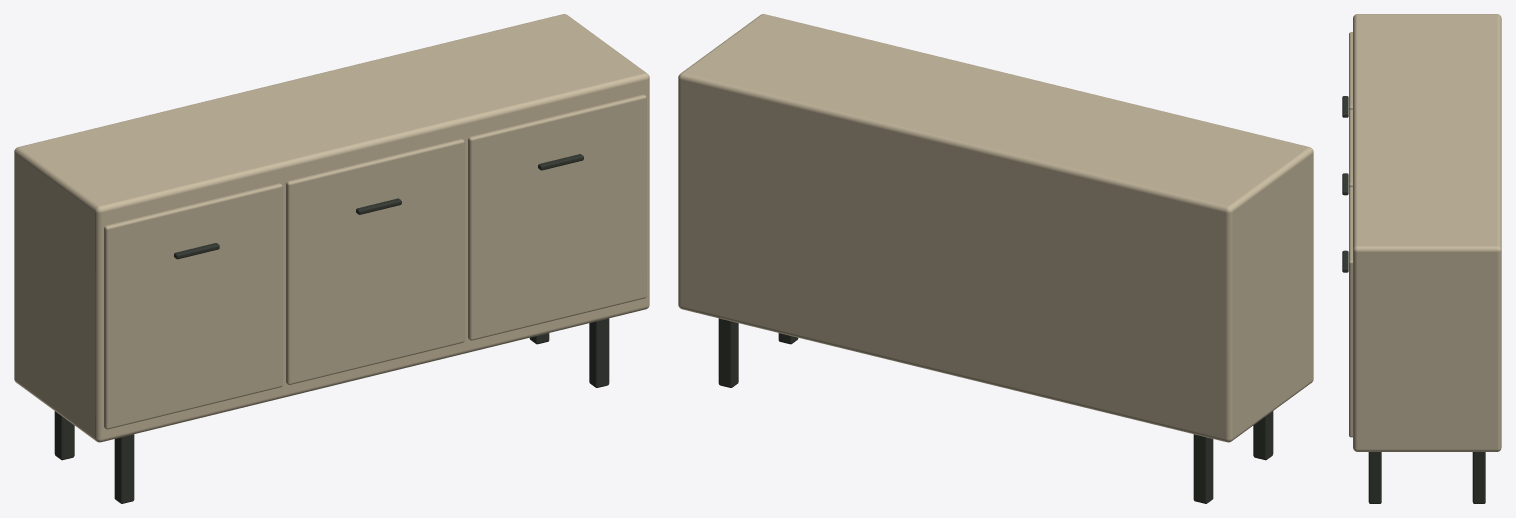
The model's file is line-sideboard-sand.glb.
3 renders of one model, left to right at view 1: azimuth 30°, elevation 25°; view 2: azimuth 150°, elevation 25°; view 3: azimuth 270°, elevation 25°, orthographic. The views are drawn at different scales.
Visible parts, largest first — view 1: The Line Sideboard — Sand; view 2: The Line Sideboard — Sand; view 3: The Line Sideboard — Sand.
Boxes of the visible parts, <box> form: The Line Sideboard — Sand: <box>14,14,649,503</box>; The Line Sideboard — Sand: <box>678,14,1313,503</box>; The Line Sideboard — Sand: <box>1342,14,1501,503</box>.
Bounding box in the file's own units: 1.4 × 0.75 × 0.4.
